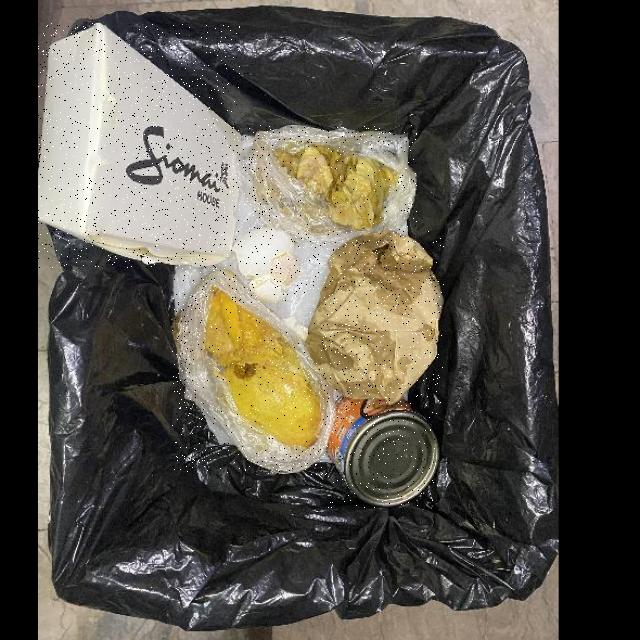biowaste: (205, 290, 321, 448), (273, 143, 399, 231), (232, 227, 301, 303)
metal: (326, 397, 440, 508)
paper: (38, 24, 240, 268), (305, 232, 444, 406)
plastic: (172, 269, 340, 475), (243, 126, 417, 248)
